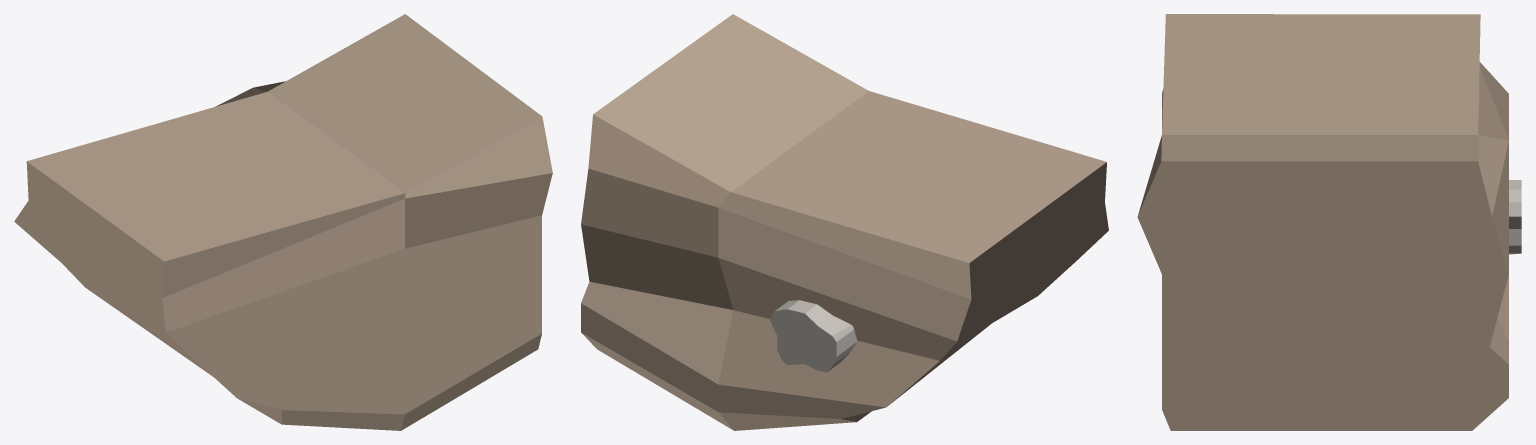
The model's file is LeftDirtAttachment.fbx.
The picture shows the model from 3 angles, left to right: view 1: azimuth 30°, elevation 25°; view 2: azimuth 150°, elevation 25°; view 3: azimuth 270°, elevation 25°; orthographic projection. The views are drawn at different scales.
Visible parts, largest first — view 1: polySurface122; view 2: polySurface122; view 3: polySurface122.
Boxes of the visible parts, x1,y1,x2,y2 form: polySurface122: [14, 14, 552, 430]; polySurface122: [581, 14, 1108, 430]; polySurface122: [1137, 14, 1521, 430].
Size of the model in its own units: 2.87 by 2.07 by 2.21.
